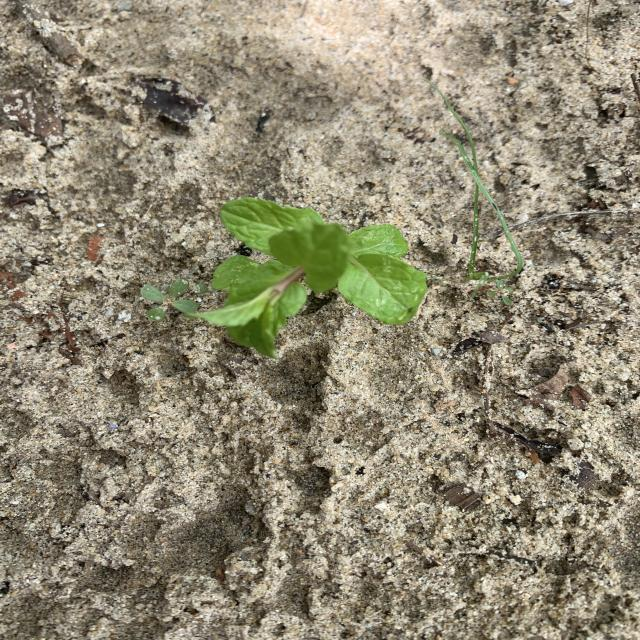crop: (185, 197, 428, 358)
weed: (457, 145, 524, 306), (141, 279, 199, 321)
